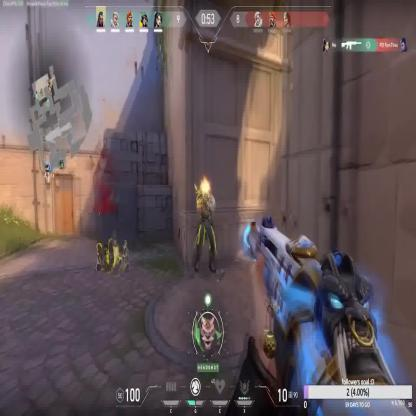enemy: (194, 176, 217, 273)
enemy_head: (200, 178, 210, 195)
